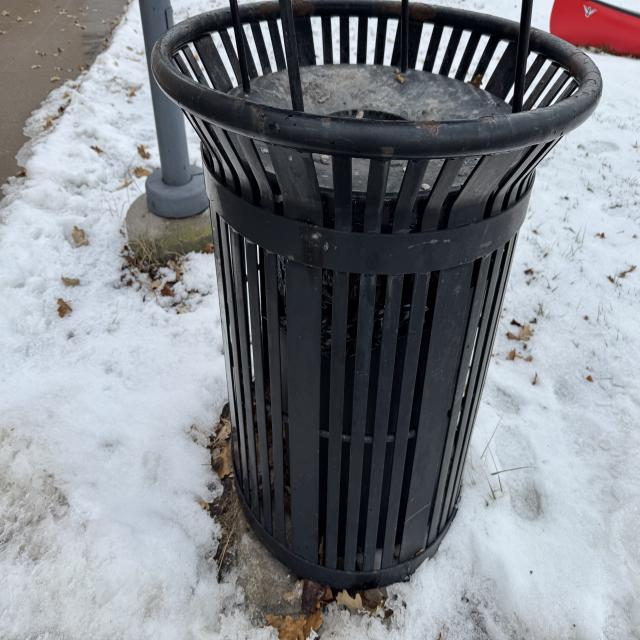Dustbin: (148, 0, 602, 592)
